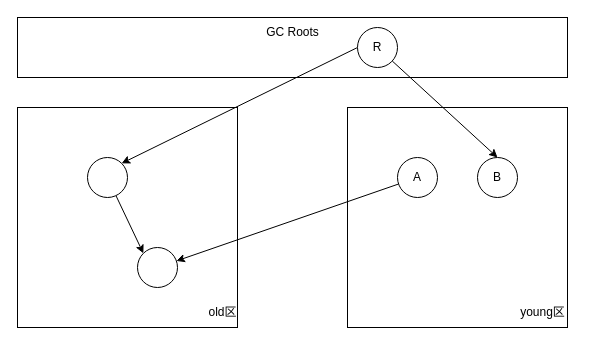
The diagram is 595 pixels wide and 345 high, and some of its shapes have lost their labels. The box of each missing label's shape, as (x1, y1, x2, y2) in pixels:
a1: (86, 156, 128, 198)
a2: (136, 246, 178, 288)
